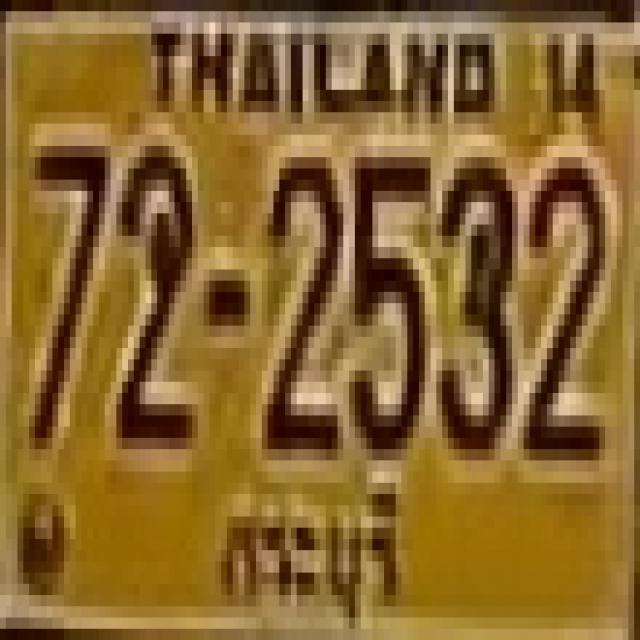2: (262, 146, 337, 449), (524, 152, 599, 454), (114, 140, 189, 432)
3: (434, 146, 509, 449)
5: (343, 146, 425, 449)
7: (29, 135, 105, 438)
SRI: (210, 461, 412, 630)
